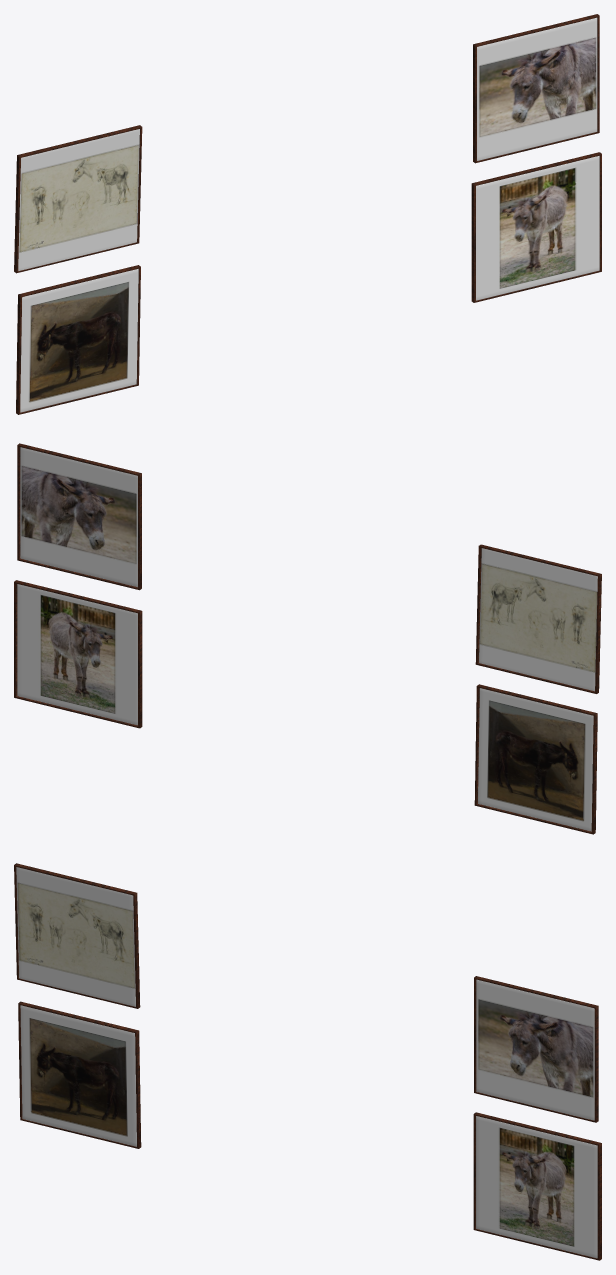
The model's file is donkey.glb.
3 views of the same model, one above another, from view 1: azimuth 30°, elevation 25°; view 2: azimuth 150°, elevation 25°; view 3: azimuth 330°, elevation 25° (orthographic).
Parts seen in each view (by area): view 1: 62x82frame.002_436.004, 62x82frame.002_436.005, Object_19, Object_19.001, Object_18, Object_18.001; view 2: 62x82frame.002_436.005, 62x82frame.002_436.004, Object_19, Object_19.001, Object_18, Object_18.001; view 3: 62x82frame.002_436.004, 62x82frame.002_436.005, Object_19, Object_19.001, Object_18, Object_18.001.
Part boxes in pixels (x1,y1,x2,y2): 62x82frame.002_436.004: (16,265,140,414); 62x82frame.002_436.005: (14,125,142,273); Object_19: (476,156,599,300); Object_19.001: (477,17,597,160); Object_18: (471,152,601,302); Object_18.001: (473,14,599,163); 62x82frame.002_436.005: (475,544,601,693); 62x82frame.002_436.004: (474,684,597,834); Object_19: (17,584,137,725); Object_19.001: (20,447,137,587); Object_18: (14,580,142,728); Object_18.001: (17,443,141,590); 62x82frame.002_436.004: (18,1001,141,1148); 62x82frame.002_436.005: (14,863,140,1008); Object_19: (476,1116,597,1258); Object_19.001: (476,979,594,1120); Object_18: (473,1112,601,1260); Object_18.001: (474,976,598,1122).
Bounding box in the file's own units: 3.26 × 1.39 × 0.084.
8 materials, 8 textured.
